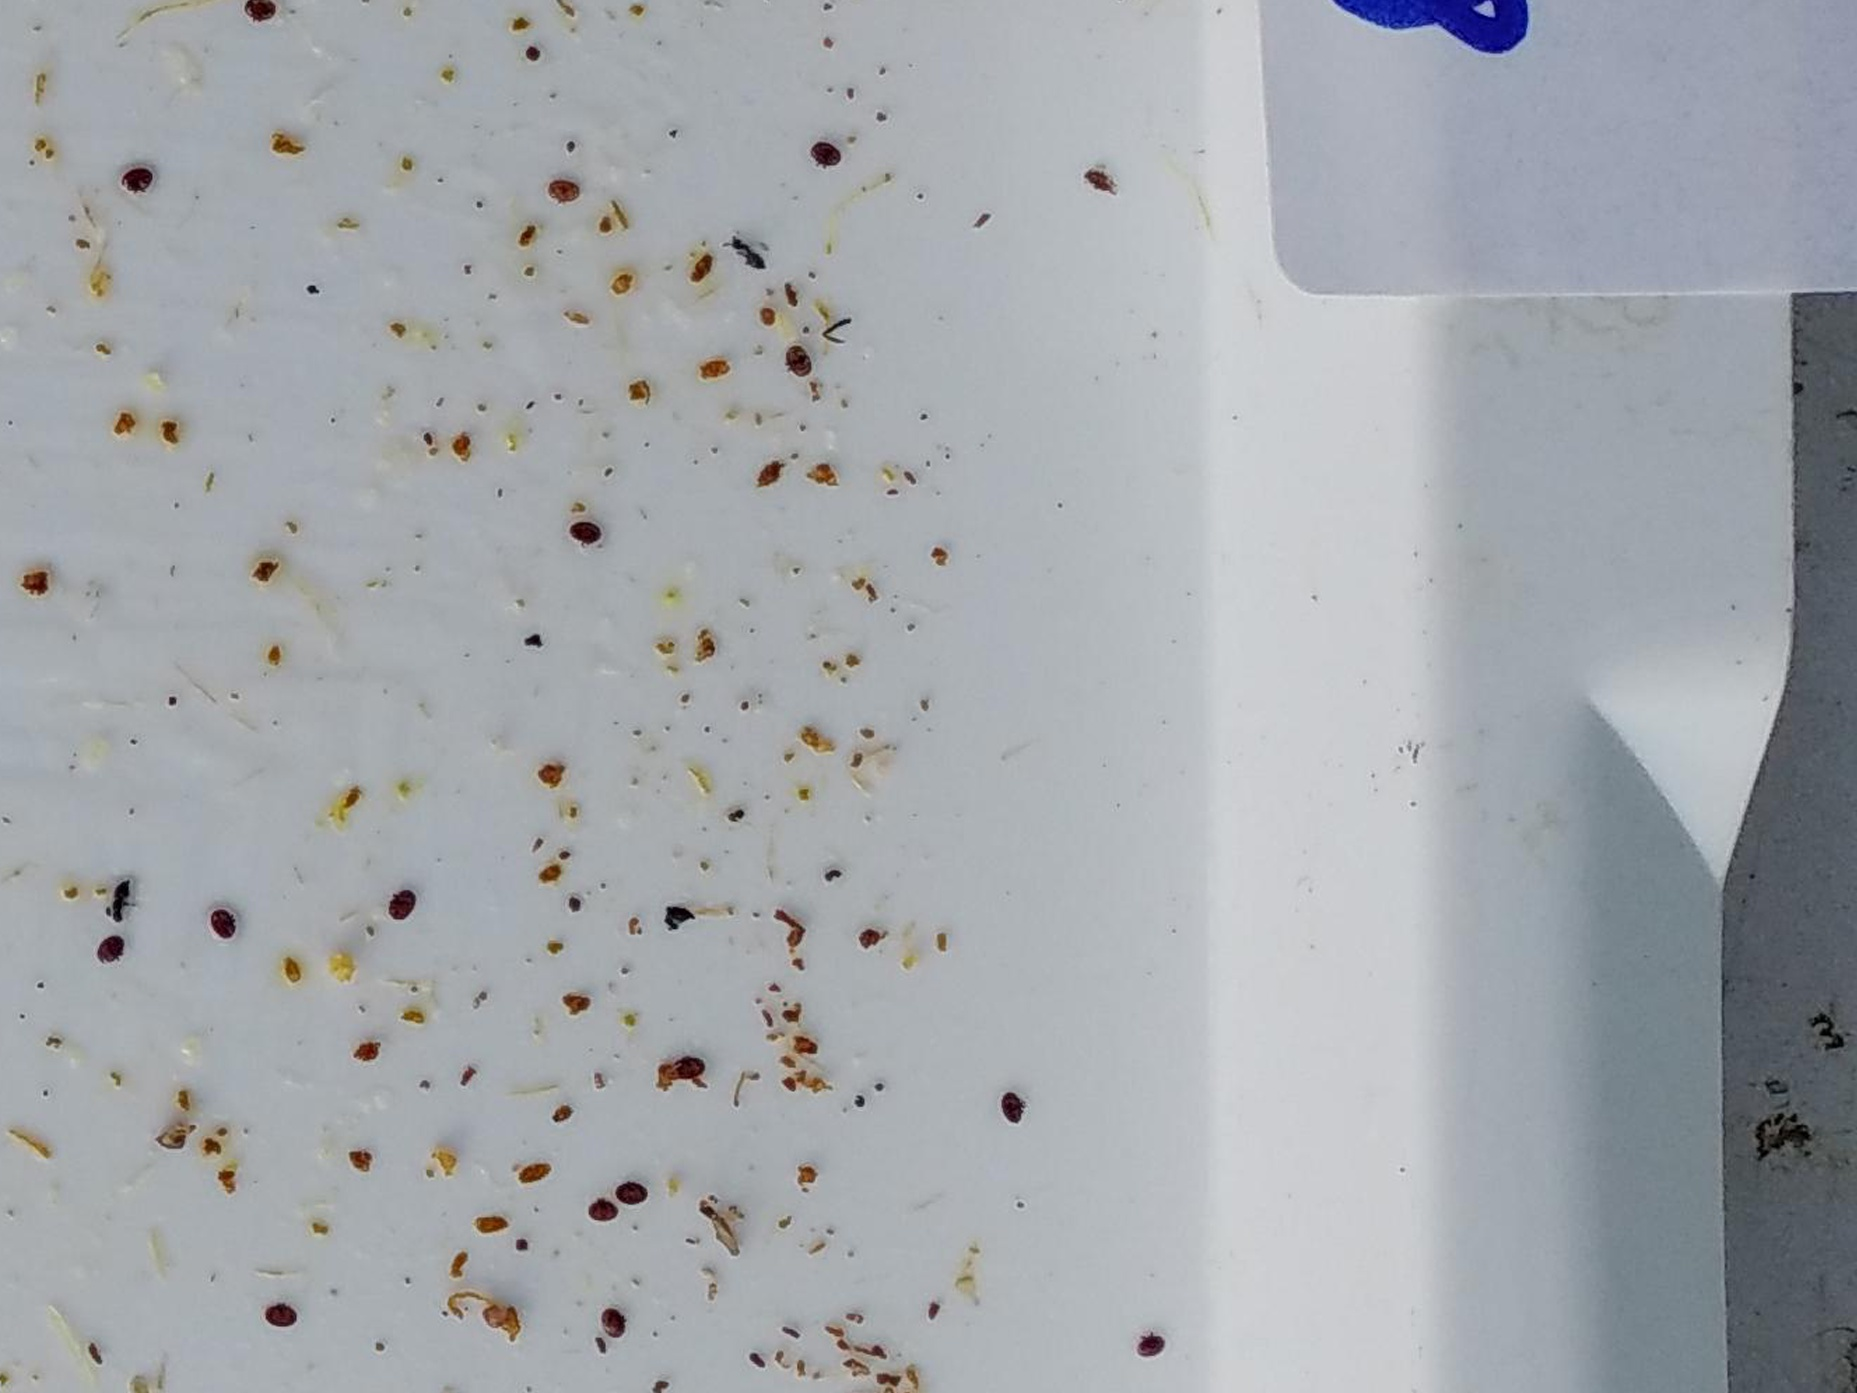Varroa: (997, 1089, 1027, 1121), (1133, 1326, 1163, 1358), (596, 1307, 626, 1337), (596, 1194, 626, 1225), (382, 888, 411, 919), (616, 1176, 647, 1206), (673, 1054, 702, 1083), (569, 517, 599, 546), (206, 909, 234, 938), (552, 183, 579, 211), (121, 167, 149, 195), (811, 138, 839, 165), (97, 936, 124, 964), (266, 1299, 294, 1326), (784, 348, 811, 375)
